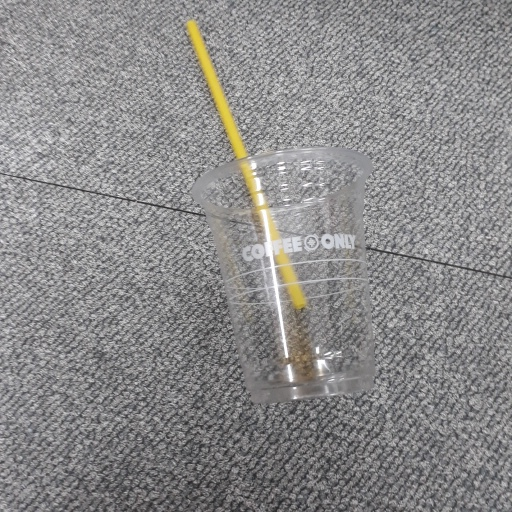Plastic_2: (180, 16, 379, 404)
